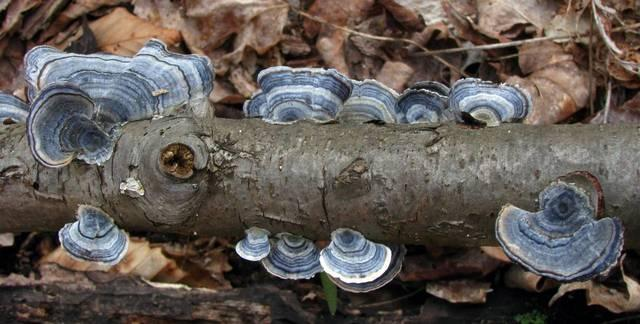Non-edible Mushroom: (21, 37, 215, 169), (242, 64, 530, 126), (493, 171, 625, 283), (242, 64, 353, 125), (39, 203, 130, 272), (318, 226, 405, 293), (448, 76, 529, 126), (260, 231, 323, 280)
